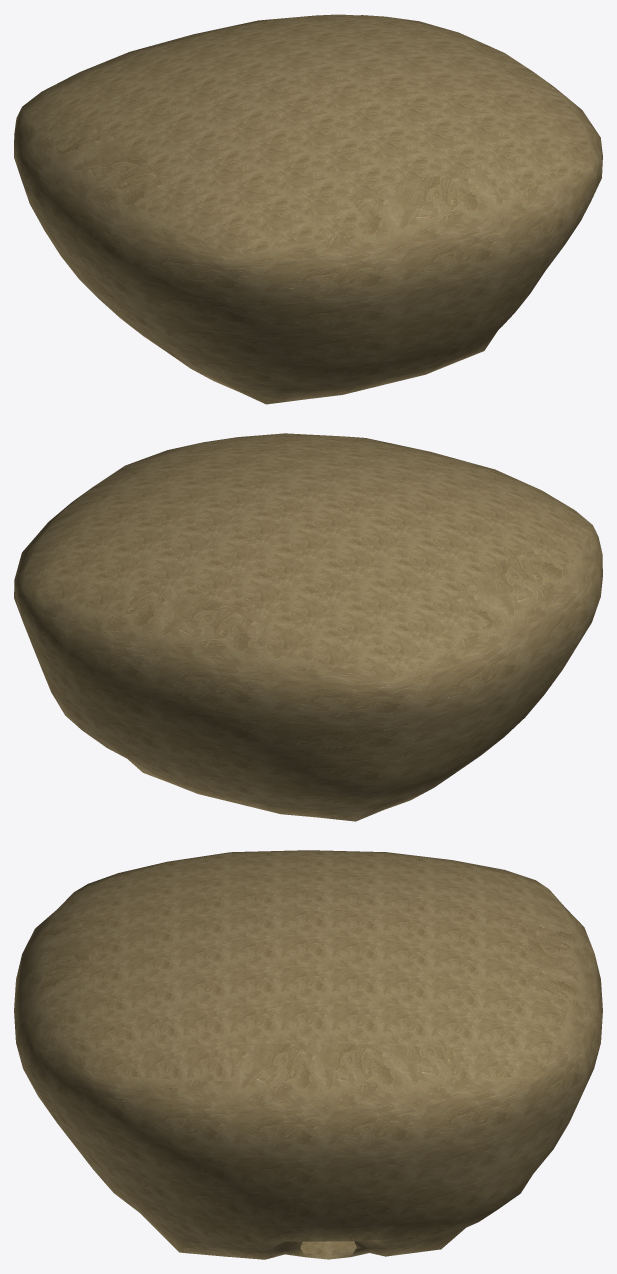
The model's file is MIRKWOOD_SB_ARENA.fbx.
3 renders of one model, top to bottom at view 1: azimuth 30°, elevation 25°; view 2: azimuth 150°, elevation 25°; view 3: azimuth 270°, elevation 25°, orthographic. The views are drawn at different scales.
Visible parts, largest first — view 1: MIRKWOOD_SB_ARENA; view 2: MIRKWOOD_SB_ARENA; view 3: MIRKWOOD_SB_ARENA.
Part boxes in pixels (x1,y1,x2,y2): MIRKWOOD_SB_ARENA: [14, 14, 602, 404]; MIRKWOOD_SB_ARENA: [14, 433, 602, 821]; MIRKWOOD_SB_ARENA: [14, 850, 602, 1259].
Bounding box in the file's own units: 548446 × 281059 × 530681.
Materials: 2 (2 with a texture image).
